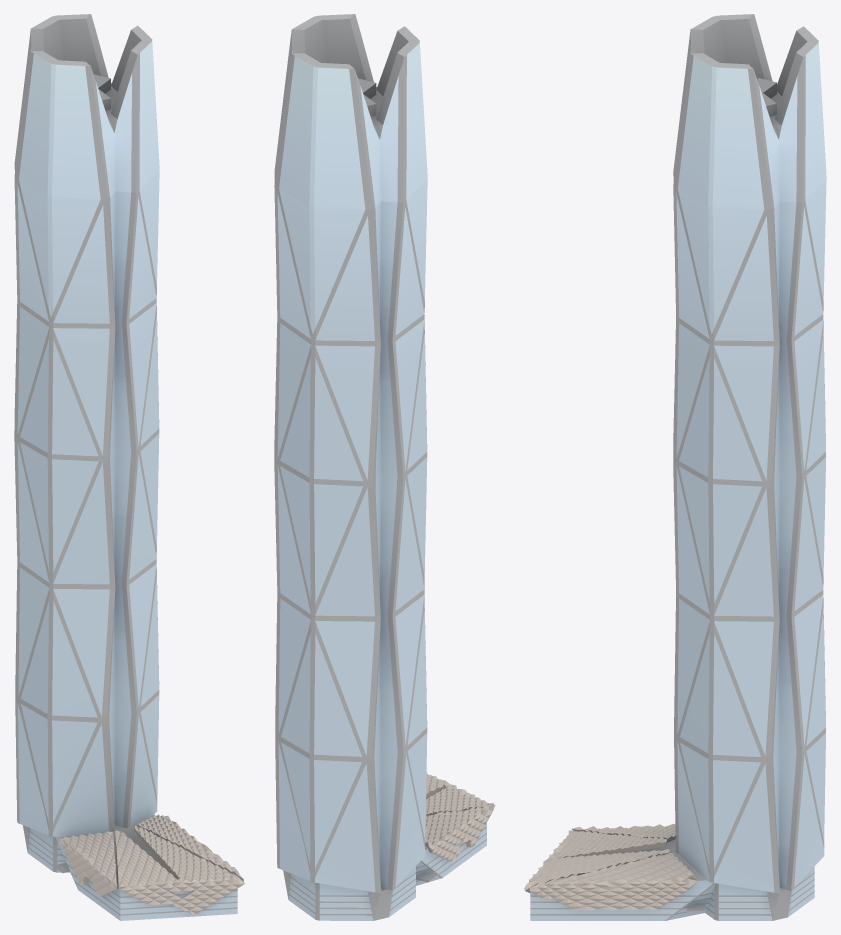
The picture shows the model from 3 angles, left to right: view 1: azimuth 30°, elevation 25°; view 2: azimuth 150°, elevation 25°; view 3: azimuth 270°, elevation 25°; orthographic projection. The views are drawn at different scales.
Visible parts, largest first — view 1: 70030076201848898; view 2: 70030076201848898; view 3: 70030076201848898.
Part boxes in pixels (x1,y1,x2,y2): 70030076201848898: (14, 14, 245, 920); 70030076201848898: (274, 14, 495, 920); 70030076201848898: (524, 14, 826, 920).
Size of the model in its own units: 51.2 by 324 by 104.
1 material, 1 textured.
